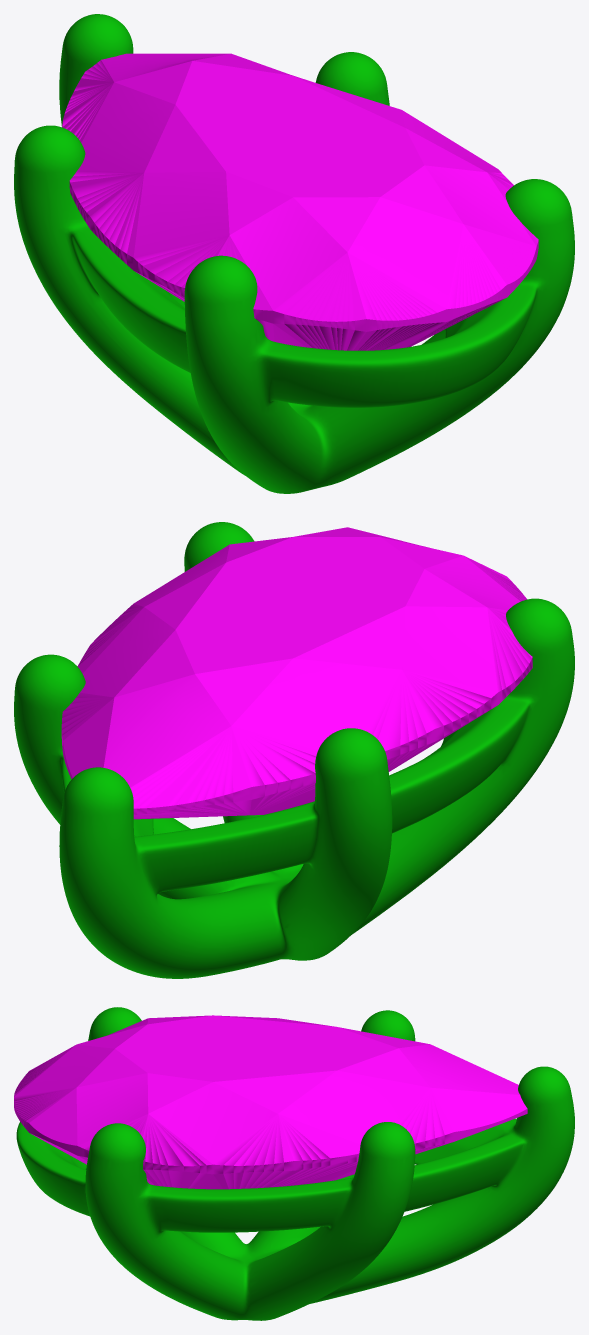
3 renders of one model, top to bottom at view 1: azimuth 30°, elevation 25°; view 2: azimuth 150°, elevation 25°; view 3: azimuth 270°, elevation 25°, orthographic. The views are drawn at different scales.
Visible parts, largest first — view 1: Diamond_Pear, Metal01; view 2: Diamond_Pear, Metal01; view 3: Metal01, Diamond_Pear.
Boxes of the visible parts, x1,y1,x2,y2 form: Diamond_Pear: (62,53,538,350); Metal01: (14,14,574,493); Diamond_Pear: (61,527,532,819); Metal01: (14,522,574,978); Metal01: (16,1007,574,1320); Diamond_Pear: (14,1015,527,1189).
Size of the model in its own units: 8.19 by 7 by 13.78.
